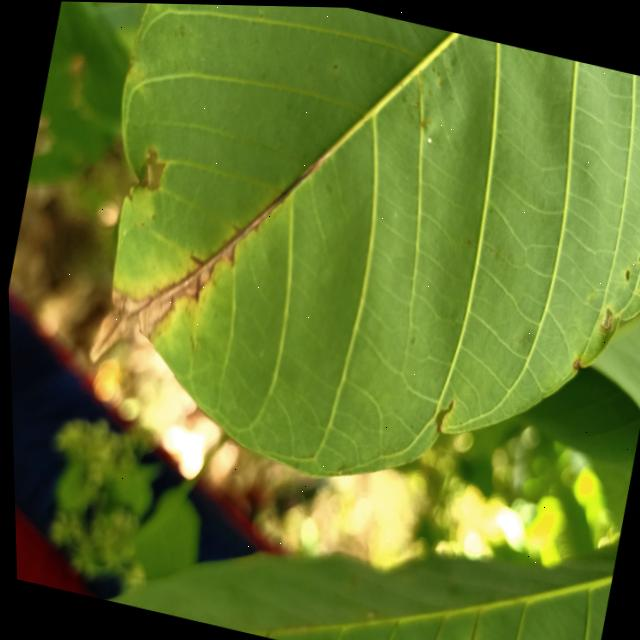Corynespora: (145, 132, 319, 337)
Leaf-Blight: (84, 276, 175, 376)
